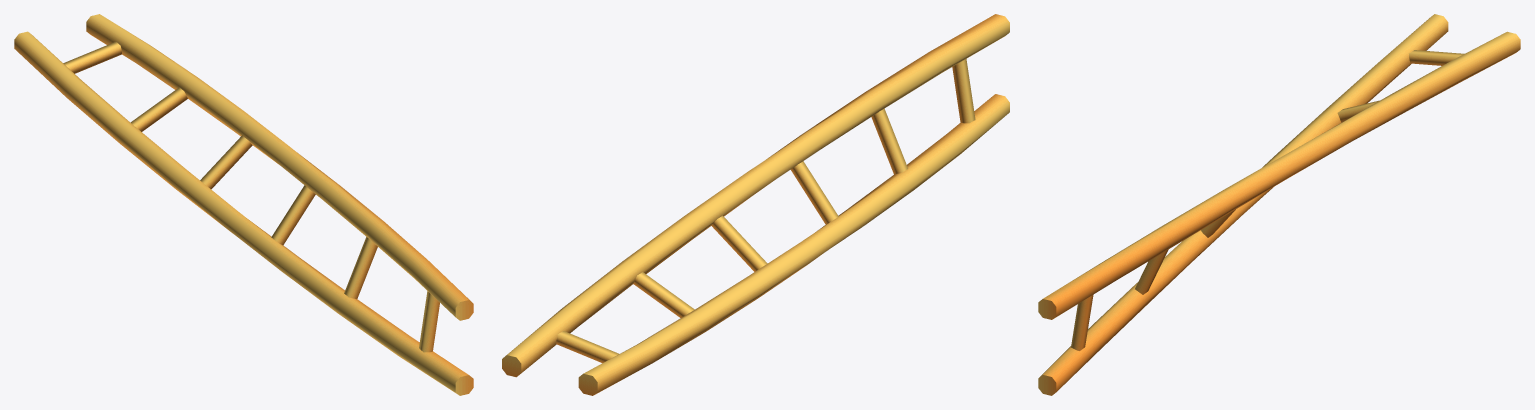
The model's file is coaster-mouse-straight-skew-right-side.glb.
3 renders of one model, left to right at view 1: azimuth 30°, elevation 25°; view 2: azimuth 150°, elevation 25°; view 3: azimuth 330°, elevation 25°, orthographic. The views are drawn at different scales.
Parts seen in each view (by area): view 1: coaster-mouse-straight-skew-right-side; view 2: coaster-mouse-straight-skew-right-side; view 3: coaster-mouse-straight-skew-right-side.
Boxes of the visible parts, box(x1,y1,x2,y2) form: coaster-mouse-straight-skew-right-side: box(14, 14, 473, 395); coaster-mouse-straight-skew-right-side: box(502, 14, 1009, 395); coaster-mouse-straight-skew-right-side: box(1038, 14, 1520, 395).
Bounding box in the file's own units: 1.53 × 1.53 × 12.
Materials: 1 (1 with a texture image).
